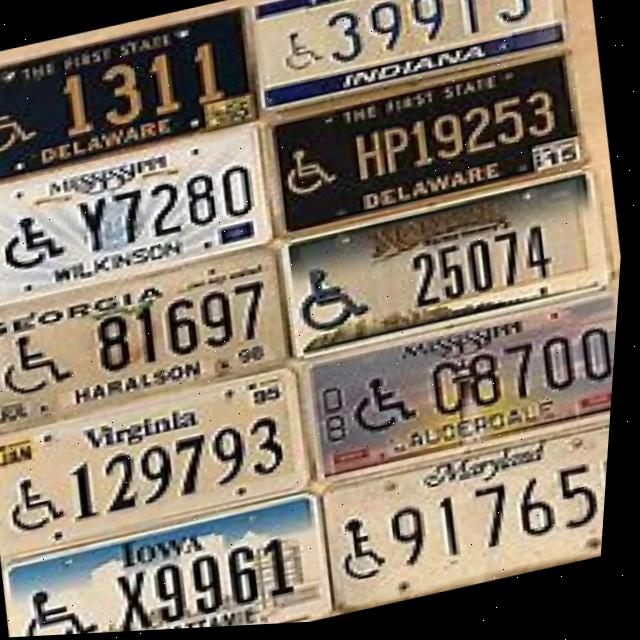symbol_of_access: (295, 261, 383, 344), (0, 326, 85, 401), (0, 209, 77, 279), (27, 579, 114, 638), (354, 372, 426, 443), (341, 514, 406, 592), (8, 470, 79, 538), (0, 86, 46, 159), (288, 145, 343, 203), (278, 25, 330, 79)
